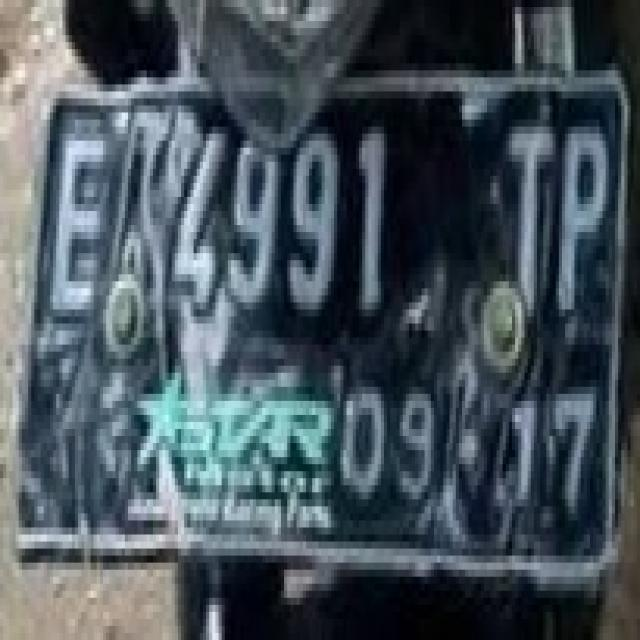plate: (19, 86, 621, 578)
